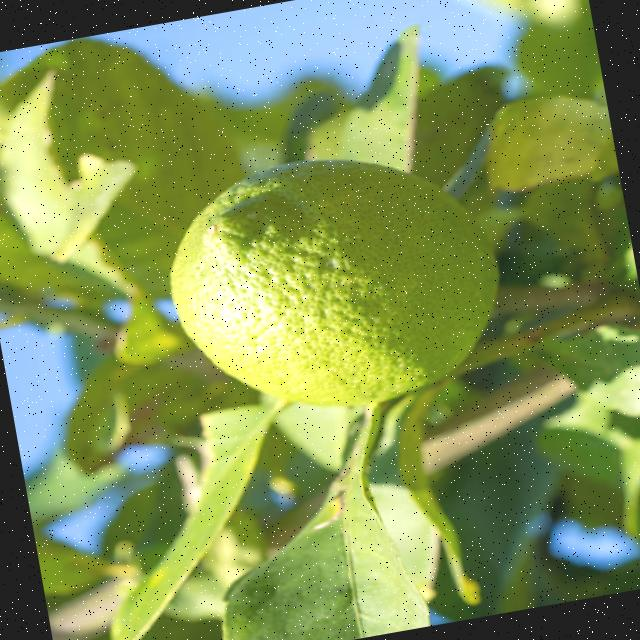Unripe: (148, 131, 517, 436)
